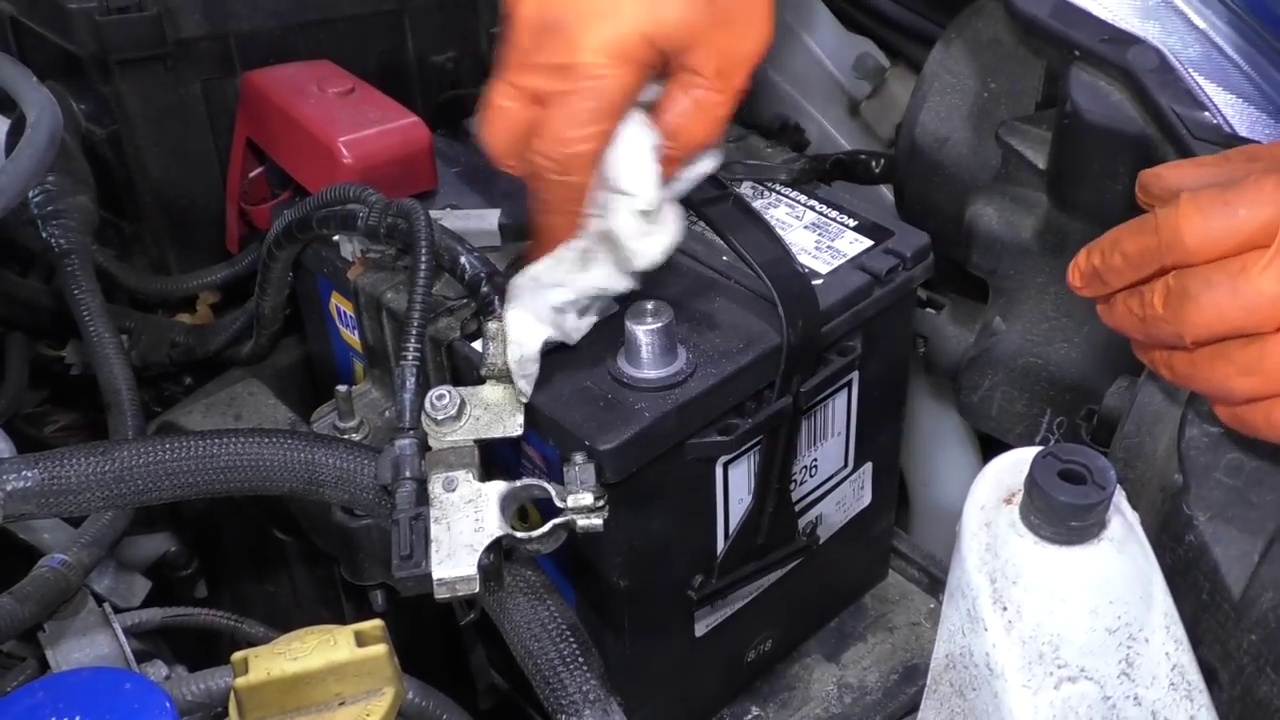battery: (281, 59, 941, 453)
neg_disconnected: (561, 251, 728, 410)
pos_connected: (209, 40, 456, 278)
